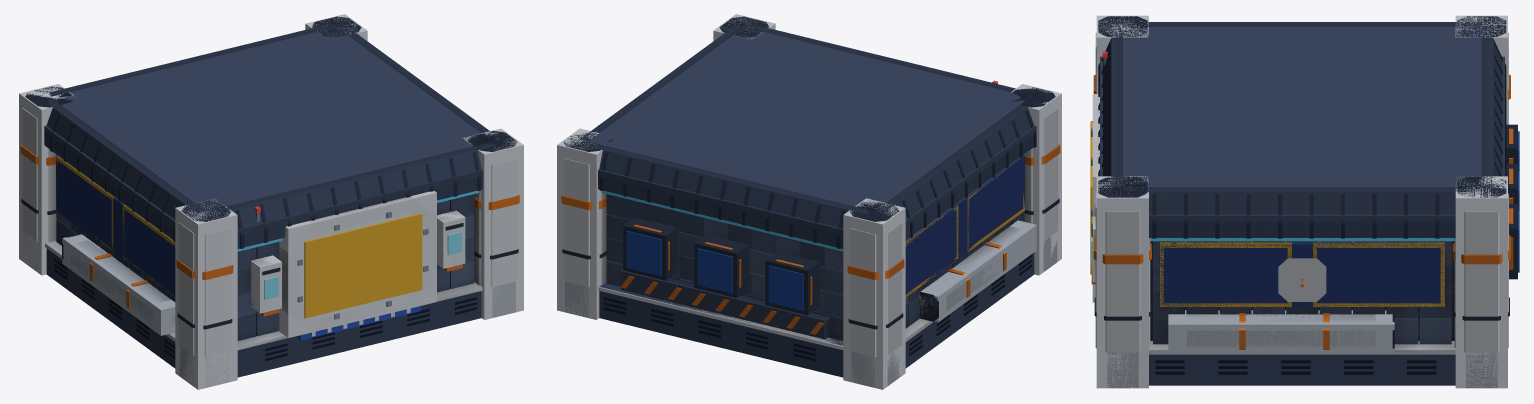
The model's file is SpaceHelmetFloor.fbx.
3 renders of one model, left to right at view 1: azimuth 30°, elevation 25°; view 2: azimuth 150°, elevation 25°; view 3: azimuth 270°, elevation 25°, orthographic. The views are drawn at different scales.
Visible parts, largest first — view 1: SH_S_All, SH_F_Rings, SH_F_Smooth, SH_F_Quiet, SH_F_Glass; view 2: SH_S_All, SH_F_Rings, SH_F_Quiet, SH_F_Smooth; view 3: SH_S_All, SH_F_Smooth, SH_F_Quiet, SH_F_Rings, SH_F_Props.
Part boxes in pixels (x1,y1,x2,y2): SH_S_All: (19, 14, 523, 389); SH_F_Rings: (22, 108, 517, 356); SH_F_Smooth: (20, 16, 519, 387); SH_F_Quiet: (44, 23, 500, 248); SH_F_Glass: (254, 206, 461, 299); SH_S_All: (557, 14, 1061, 389); SH_F_Rings: (563, 108, 1058, 356); SH_F_Quiet: (580, 23, 1036, 339); SH_F_Smooth: (561, 16, 1060, 387); SH_S_All: (1090, 15, 1519, 388); SH_F_Smooth: (1091, 16, 1513, 388); SH_F_Quiet: (1103, 22, 1501, 237); SH_F_Rings: (1093, 33, 1508, 352); SH_F_Props: (1278, 258, 1326, 301).
Size of the model in its own units: 43.21 by 20 by 40.94.
